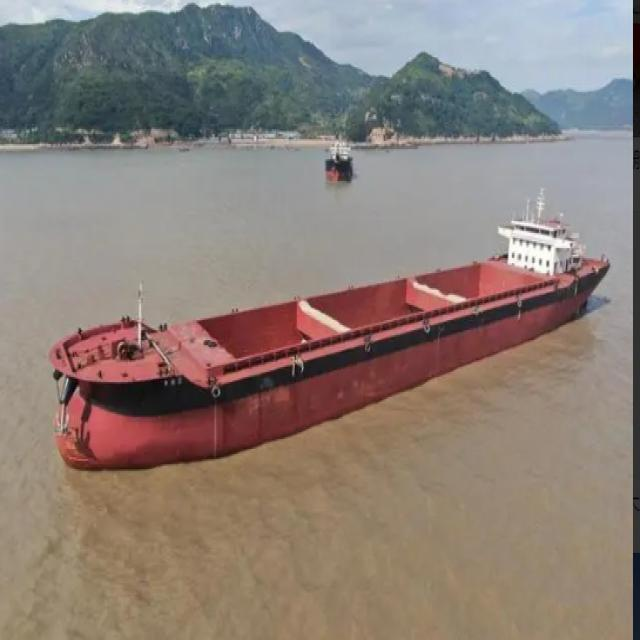cargoship: (51, 197, 609, 500), (319, 126, 362, 195)
